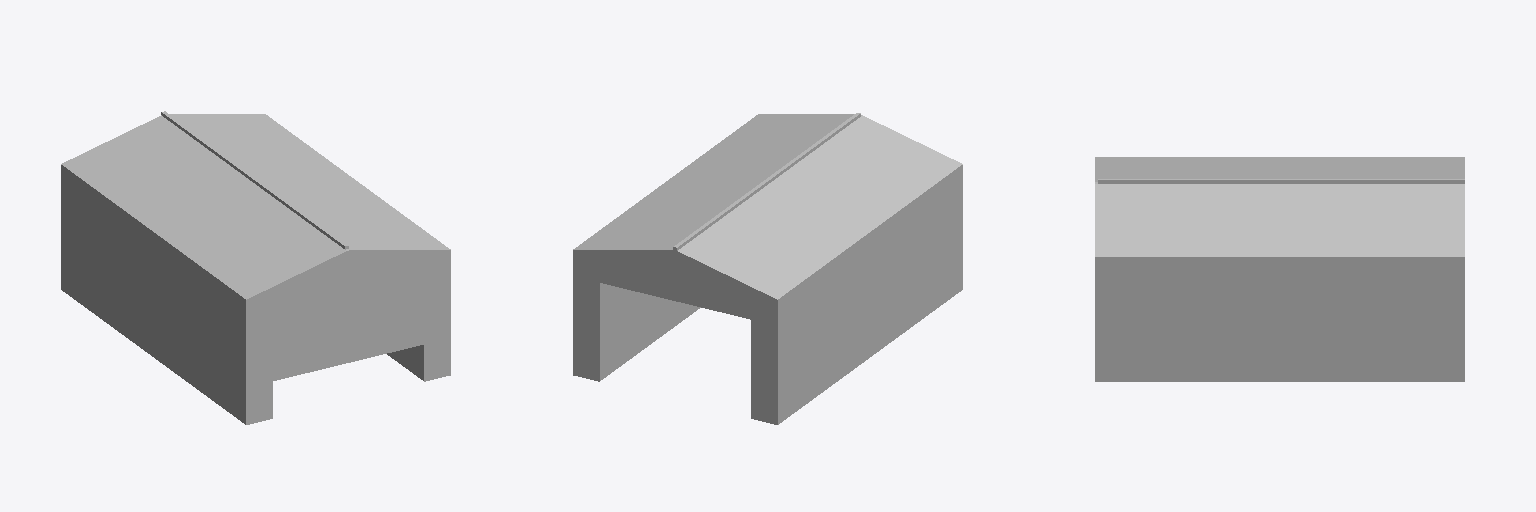
File: building1.obj
3 views of the same model, side by side, from view 1: azimuth 30°, elevation 25°; view 2: azimuth 150°, elevation 25°; view 3: azimuth 270°, elevation 25° (orthographic).
Visible parts, largest first — view 1: Cube.043_Cube.044; view 2: Cube.043_Cube.044; view 3: Cube.043_Cube.044.
Part boxes in pixels (left/top/right/bottom): Cube.043_Cube.044: left=61, top=111, right=450, bottom=424; Cube.043_Cube.044: left=573, top=113, right=962, bottom=424; Cube.043_Cube.044: left=1095, top=157, right=1464, bottom=381.
Size of the model in its own units: 16.16 by 11.54 by 25.34.